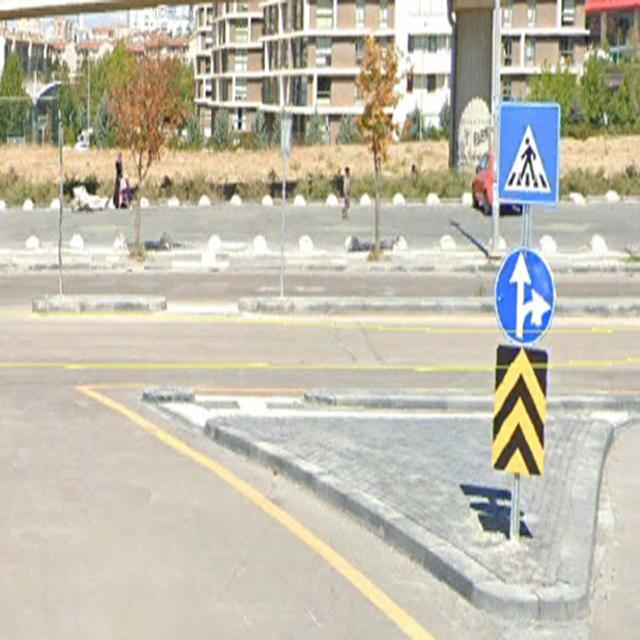ilerisag: (494, 246, 557, 345)
